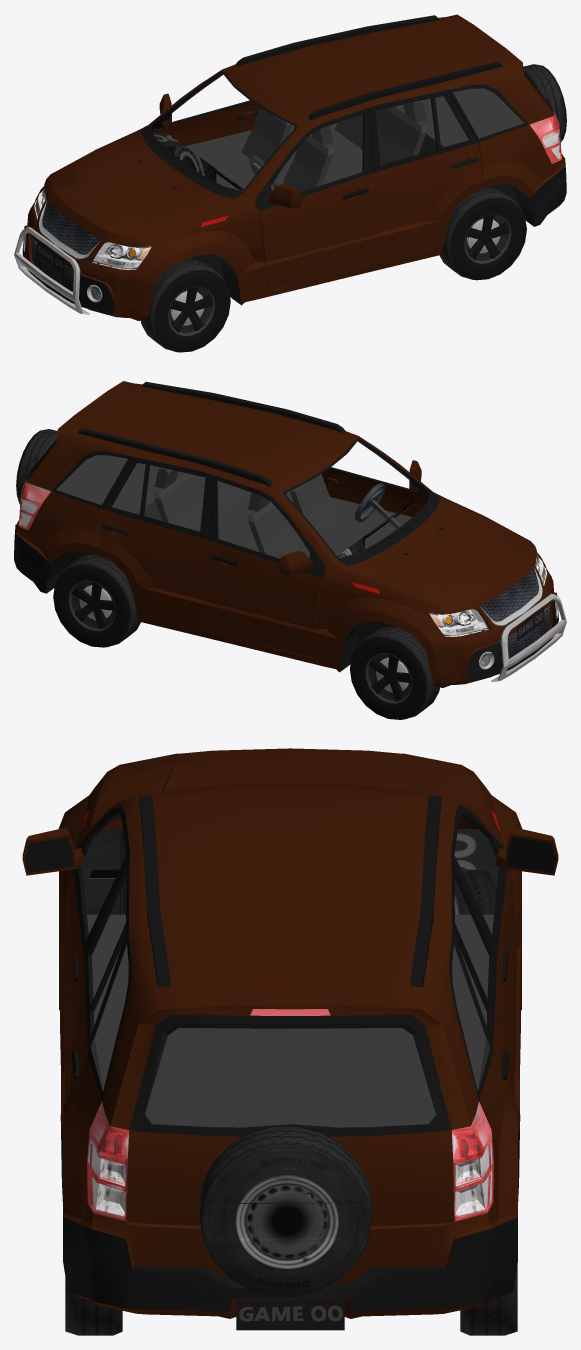
The model's file is suzuki Grand vitara.fbx.
The picture shows the model from 3 angles, top to bottom: view 1: azimuth 30°, elevation 25°; view 2: azimuth 150°, elevation 25°; view 3: azimuth 270°, elevation 25°; orthographic projection. The views are drawn at different scales.
Parts seen in each view (by area): view 1: body, ent, polySurface172, polySurface202; view 2: body, ent, polySurface204, polySurface203; view 3: body, ent, polySurface203, polySurface202.
Boxes of the visible parts, box(x1,y1,x2,y2) form: body: box(25, 14, 565, 320); ent: box(14, 15, 566, 314); polySurface172: box(141, 259, 230, 352); polySurface202: box(439, 187, 526, 280); body: box(15, 381, 555, 687); ent: box(14, 382, 566, 681); polySurface204: box(350, 626, 439, 719); polySurface203: box(53, 554, 140, 647); body: box(22, 748, 558, 1318); ent: box(25, 796, 555, 1330); polySurface203: box(460, 1264, 517, 1335); polySurface202: box(65, 1277, 122, 1335).
Size of the model in its own units: 701 by 259 by 323.
1 material, 1 textured.
